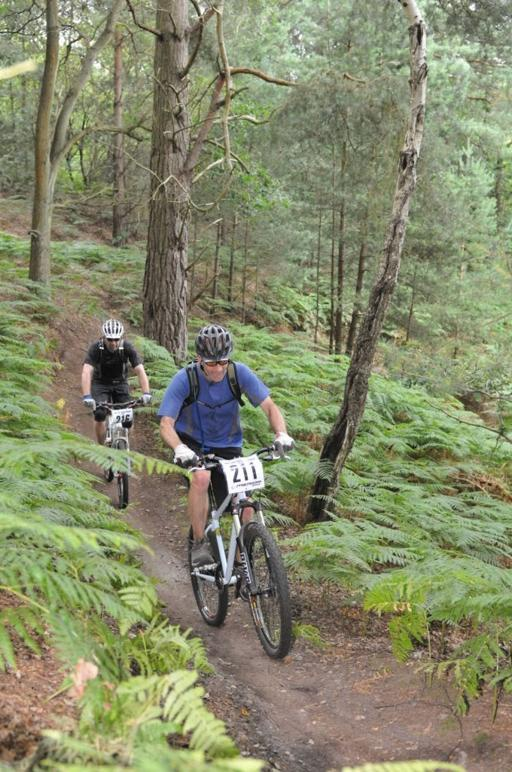non-vehicle: (176, 442, 293, 660), (83, 387, 150, 508)
